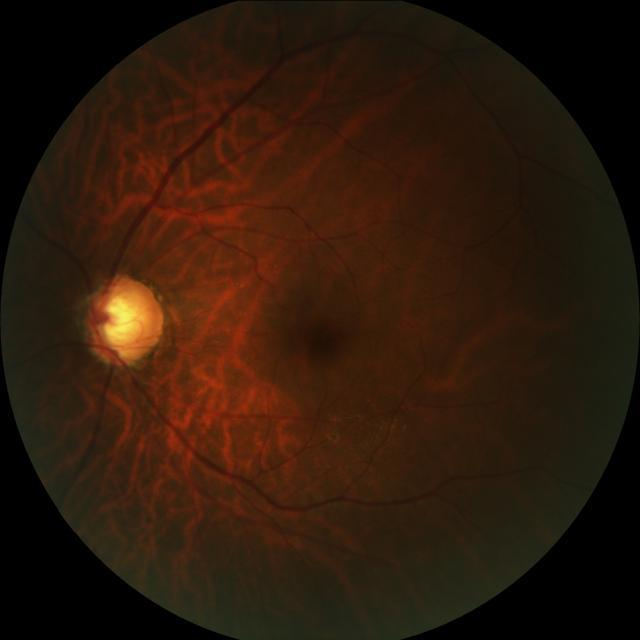OC: (100, 295, 144, 345)
OD: (84, 274, 168, 365)
